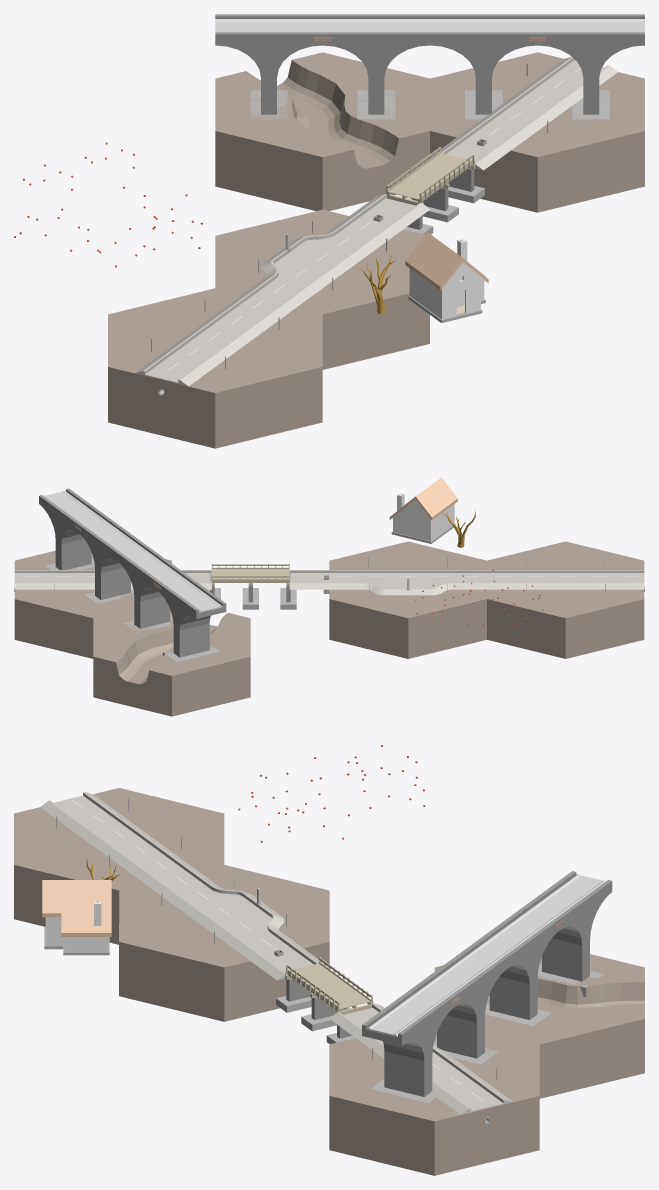
The model's file is bim-site.glb.
3 views of the same model, one above another, from view 1: azimuth 30°, elevation 25°; view 2: azimuth 150°, elevation 25°; view 3: azimuth 270°, elevation 25° (orthographic). The views are drawn at different scales.
Visible parts, largest first — view 1: Infra-Landscaping|IfcBuildingElementProxy, Infra-Bridge|IfcWall, Infra-Road|IfcSlab, Infra-Road|IfcElementAssembly, Infra-Rail|IfcBuildingElementProxy, Infra-Bridge|IfcFooting, Infra-Bridge|IfcColumn, Building-Architecture|IfcSlab, Building-Structural|IfcWall, Infra-Bridge|IfcSlab, Building-Architecture|IfcWall, Infra-Bridge|IfcRailing; view 2: Infra-Landscaping|IfcBuildingElementProxy, Infra-Road|IfcElementAssembly, Infra-Road|IfcSlab, Infra-Bridge|IfcWall, Infra-Bridge|IfcColumn, Infra-Rail|IfcBuildingElementProxy, Infra-Bridge|IfcFooting, Building-Architecture|IfcSlab, Building-Structural|IfcWall, Infra-Bridge|IfcMember, Infra-Bridge|IfcSlab, Infra-Bridge|IfcRailing (+1 smaller); view 3: Infra-Landscaping|IfcBuildingElementProxy, Infra-Road|IfcSlab, Infra-Bridge|IfcColumn, Infra-Road|IfcElementAssembly, Infra-Bridge|IfcWall, Infra-Rail|IfcBuildingElementProxy, Building-Architecture|IfcSlab, Infra-Bridge|IfcFooting, Infra-Bridge|IfcMember, Infra-Bridge|IfcSlab, Building-Architecture|IfcWall, Infra-Bridge|IfcRailing.
Part boxes in pixels (x1=…): Infra-Landscaping|IfcBuildingElementProxy: x1=108, y1=52, x2=644, y2=448; Infra-Bridge|IfcWall: x1=215, y1=14, x2=644, y2=77; Infra-Road|IfcSlab: x1=145, y1=60, x2=604, y2=383; Infra-Road|IfcElementAssembly: x1=135, y1=57, x2=617, y2=386; Infra-Rail|IfcBuildingElementProxy: x1=215, y1=19, x2=644, y2=32; Infra-Bridge|IfcFooting: x1=250, y1=90, x2=609, y2=234; Infra-Bridge|IfcColumn: x1=261, y1=78, x2=599, y2=229; Building-Architecture|IfcSlab: x1=405, y1=232, x2=488, y2=290; Building-Structural|IfcWall: x1=443, y1=262, x2=482, y2=318; Infra-Bridge|IfcSlab: x1=388, y1=153, x2=470, y2=199; Building-Architecture|IfcWall: x1=409, y1=269, x2=484, y2=319; Infra-Bridge|IfcRailing: x1=385, y1=146, x2=474, y2=202; Infra-Landscaping|IfcBuildingElementProxy: x1=14, y1=541, x2=644, y2=716; Infra-Road|IfcElementAssembly: x1=14, y1=570, x2=644, y2=595; Infra-Road|IfcSlab: x1=14, y1=573, x2=644, y2=588; Infra-Bridge|IfcWall: x1=39, y1=488, x2=226, y2=630; Infra-Bridge|IfcColumn: x1=55, y1=539, x2=290, y2=657; Infra-Rail|IfcBuildingElementProxy: x1=44, y1=490, x2=222, y2=612; Infra-Bridge|IfcFooting: x1=45, y1=558, x2=296, y2=661; Building-Architecture|IfcSlab: x1=389, y1=477, x2=457, y2=519; Building-Structural|IfcWall: x1=394, y1=499, x2=429, y2=540; Infra-Bridge|IfcMember: x1=64, y1=530, x2=223, y2=629; Infra-Bridge|IfcSlab: x1=211, y1=569, x2=289, y2=579; Infra-Bridge|IfcRailing: x1=211, y1=564, x2=289, y2=583; Infra-Landscaping|IfcBuildingElementProxy: x1=14, y1=788, x2=644, y2=1175; Infra-Road|IfcSlab: x1=54, y1=795, x2=503, y2=1112; Infra-Bridge|IfcColumn: x1=286, y1=938, x2=589, y2=1096; Infra-Road|IfcElementAssembly: x1=40, y1=792, x2=513, y2=1114; Infra-Bridge|IfcWall: x1=362, y1=871, x2=612, y2=1060; Infra-Rail|IfcBuildingElementProxy: x1=366, y1=874, x2=605, y2=1037; Building-Architecture|IfcSlab: x1=42, y1=880, x2=111, y2=936; Infra-Bridge|IfcFooting: x1=276, y1=963, x2=603, y2=1102; Infra-Bridge|IfcMember: x1=366, y1=926, x2=577, y2=1059; Infra-Bridge|IfcSlab: x1=290, y1=963, x2=370, y2=1009; Building-Architecture|IfcWall: x1=45, y1=917, x2=108, y2=951; Infra-Bridge|IfcRailing: x1=285, y1=957, x2=373, y2=1012.
Bounding box in the file's own units: 75.06 × 13.97 × 60.
